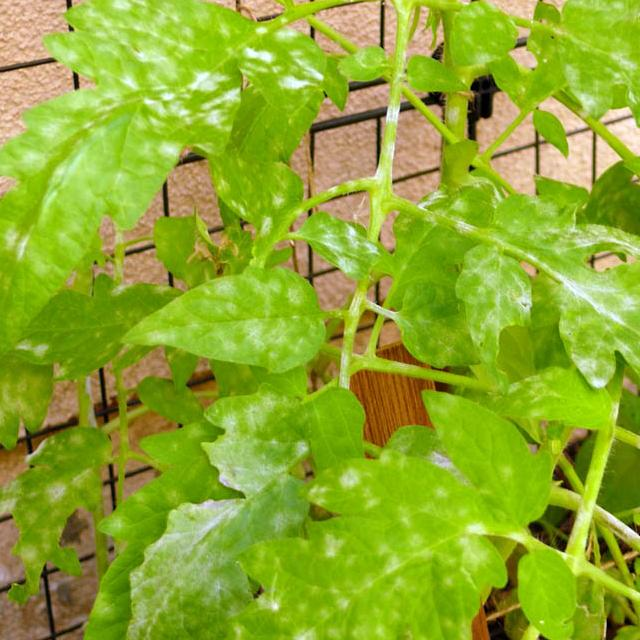Tomato mold leaf: (0, 8, 270, 492), (226, 389, 565, 640), (460, 192, 640, 503), (98, 264, 345, 369), (510, 0, 640, 167), (309, 211, 401, 282)
